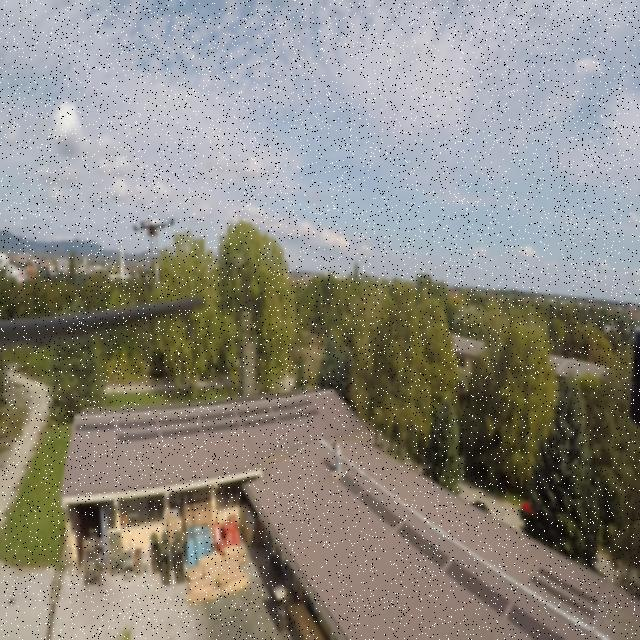UAV: (125, 209, 182, 254)
